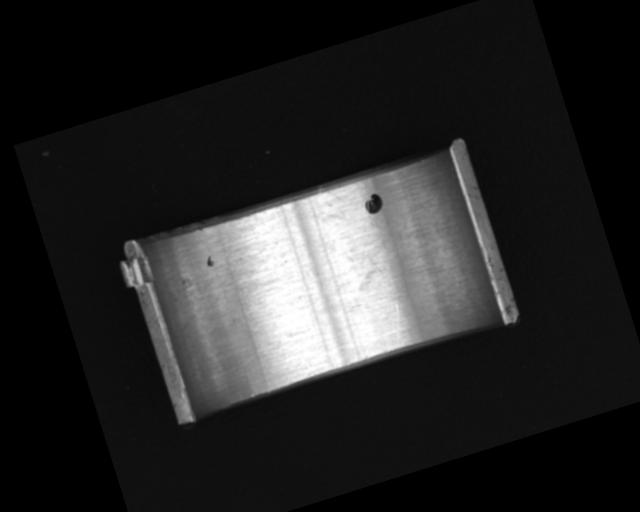blot: (345, 237, 403, 298), (361, 190, 385, 216)
bruise: (203, 254, 216, 270)
nick: (384, 301, 410, 344)
